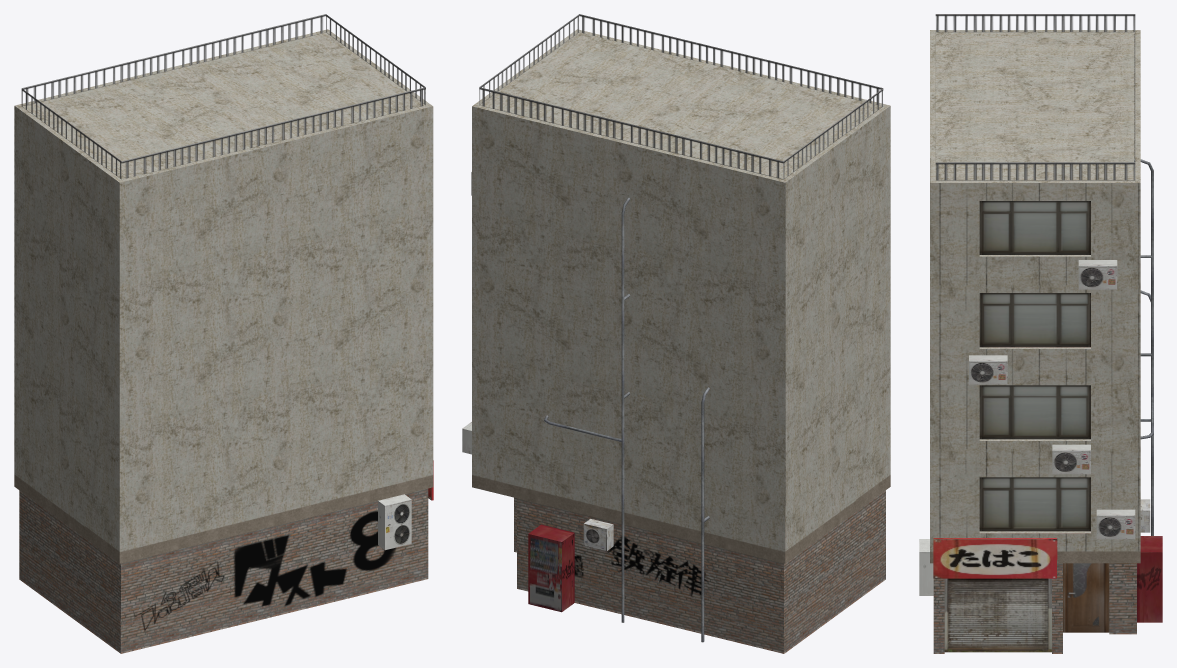
File: apartment.glb
3 views of the same model, side by side, from view 1: azimuth 30°, elevation 25°; view 2: azimuth 150°, elevation 25°; view 3: azimuth 270°, elevation 25° (orthographic).
Parts seen in each view (by area): view 1: PSX Japanese Apartment, AC#1; view 2: PSX Japanese Apartment, PSX Vending Machine, AC#5; view 3: PSX Japanese Apartment, PSX Vending Machine, AC#3, AC#2, AC#6, AC#4, AC#1, AC#5.
Part boxes in pixels (x1,y1,x2,y2): PSX Japanese Apartment: [14, 14, 433, 653]; AC#1: [378, 494, 411, 550]; PSX Japanese Apartment: [472, 14, 890, 653]; PSX Vending Machine: [528, 524, 574, 612]; AC#5: [583, 519, 613, 550]; PSX Japanese Apartment: [930, 14, 1153, 653]; PSX Vending Machine: [1137, 536, 1162, 622]; AC#3: [1096, 509, 1135, 539]; AC#2: [1052, 444, 1090, 474]; AC#6: [1078, 260, 1117, 289]; AC#4: [969, 355, 1007, 384]; AC#1: [919, 539, 933, 595]; AC#5: [1140, 499, 1150, 532].
Size of the model in its own units: 7.39 by 10.66 by 4.79.
3 materials, 3 textured.
